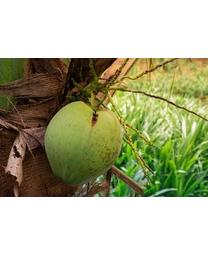coconut: (43, 99, 126, 188)
